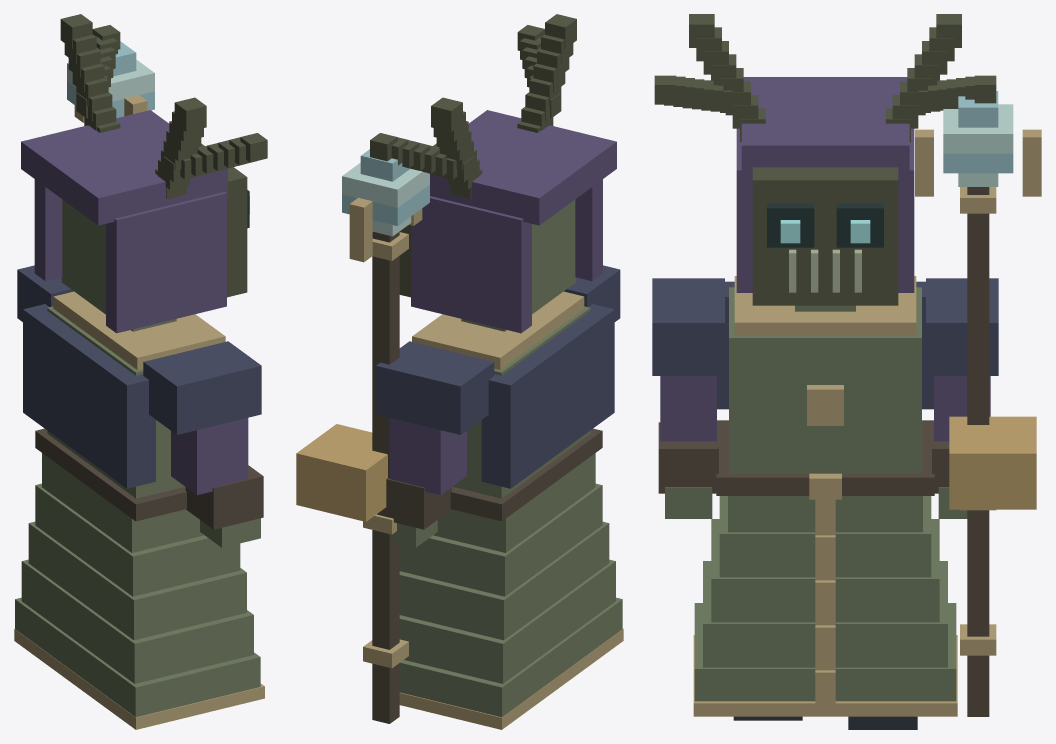
File: bark-acolyte.glb
3 renders of one model, left to right at view 1: azimuth 30°, elevation 25°; view 2: azimuth 150°, elevation 25°; view 3: azimuth 270°, elevation 25°, orthographic. The views are drawn at different scales.
Parts seen in each view (by area): view 1: Robe, Hood, Mantle, Shoulders, Antler, Collar, Sleeves, AntlerFork, Head, Belt, RobeHem, Bracers (+5 smaller); view 2: Robe, Hood, Mantle, Shoulders, StaffShaft, Bell, Antler, Collar, StaffCrystal, Sleeves, AntlerFork, Head (+8 smaller); view 3: Robe, Torso, Hood, WoodMask, Shoulders, StaffShaft, Bell, Antler, Collar, Sleeves, StaffCrystal, Belt (+14 smaller).
Part boxes in pixels (x1,y1,x2,y2): Robe: (15,453,260,717); Hood: (21,110,227,333); Mantle: (23,304,155,488); Shoulders: (17,265,261,434); Antler: (60,14,206,198); Collar: (53,291,225,369); Sleeves: (171,418,248,495); AntlerFork: (76,25,267,182); Head: (61,199,105,314); Belt: (35,428,186,521); RobeHem: (14,628,264,729); Bracers: (185,465,263,529); Robe: (399,453,622,717); Hood: (411,110,616,333); Mantle: (481,304,614,488); Shoulders: (376,265,620,434); StaffShaft: (372,231,399,723); Bell: (296,424,387,521); Antler: (431,14,576,199); Collar: (412,291,584,369); StaffCrystal: (342,149,429,236); Sleeves: (389,418,466,495); AntlerFork: (370,25,561,182); Head: (532,199,575,314); Robe: (694,496,956,701); Torso: (729,287,921,474); Hood: (736,77,914,292); WoodMask: (752,167,898,305); Shoulders: (652,278,998,375); StaffShaft: (967,187,989,716); Bell: (949,416,1036,509); Antler: (689,14,961,142); Collar: (734,276,916,335); Sleeves: (660,376,990,441); StaffCrystal: (943,91,1013,186); Belt: (716,420,934,495).
Bounding box in the file's own units: 3.17 × 10.27 × 5.35.
